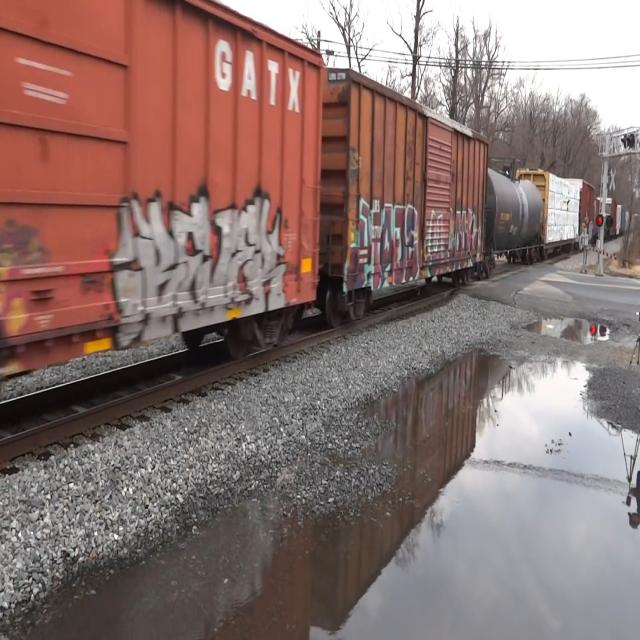boxcar: (0, 0, 328, 395), (327, 59, 493, 326)
tank: (486, 163, 542, 279)
